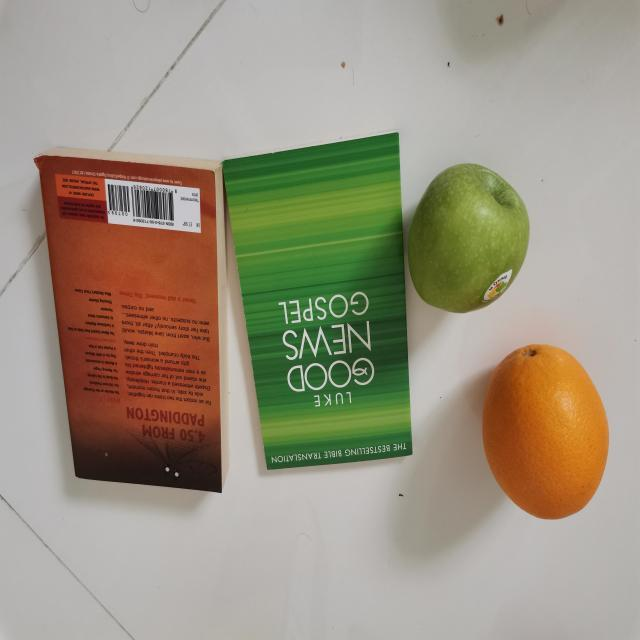Apple: (407, 159, 533, 315)
Book: (37, 145, 235, 496), (219, 128, 417, 473)
Orange: (480, 341, 608, 521)
